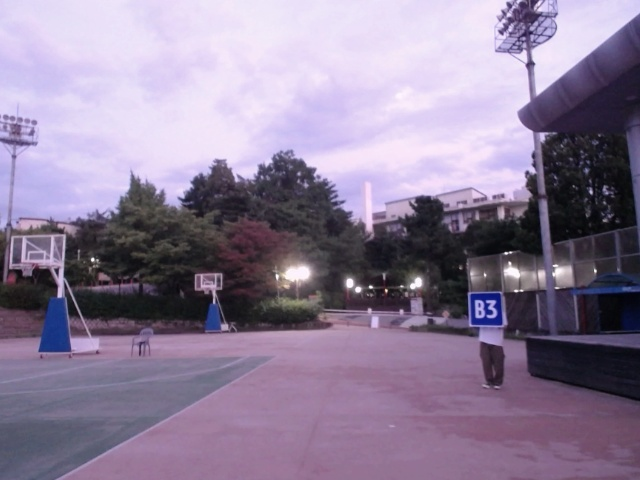delivery_b3: (468, 291, 507, 329)
